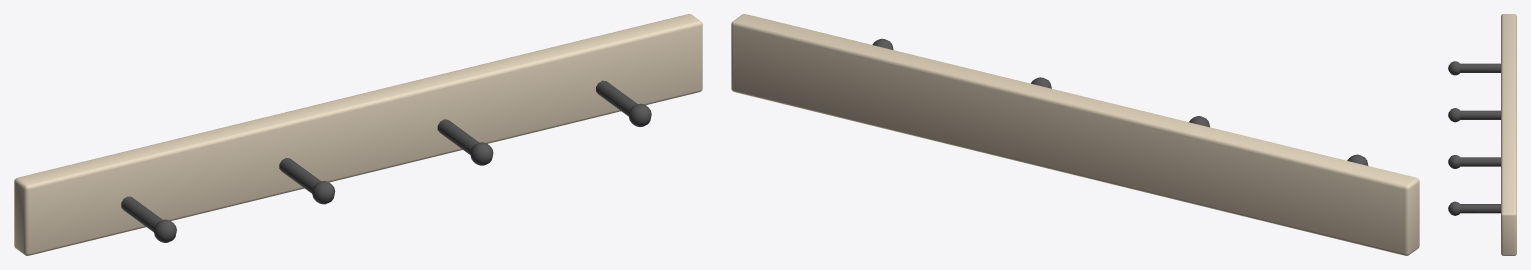
Rendered from mo_hook_rail.glb.
3 renders of one model, left to right at view 1: azimuth 30°, elevation 25°; view 2: azimuth 150°, elevation 25°; view 3: azimuth 270°, elevation 25°, orthographic. The views are drawn at different scales.
Visible parts, largest first — view 1: rail, peg, peg.002, peg.003, peg.001, tip.001, tip.002, tip, tip.003; view 2: rail; view 3: rail, peg, peg.001, peg.002, peg.003, tip, tip.001, tip.003, tip.002.
Boxes of the visible parts, left/top/right/bottom form: rail: left=14, top=14, right=702, bottom=255; peg: left=121, top=196, right=162, bottom=232; peg.002: left=437, top=119, right=479, bottom=154; peg.003: left=596, top=80, right=637, bottom=116; peg.001: left=279, top=158, right=320, bottom=193; tip.001: left=312, top=181, right=335, bottom=204; tip.002: left=470, top=142, right=493, bottom=165; tip: left=154, top=219, right=176, bottom=242; tip.003: left=629, top=103, right=651, bottom=126; rail: left=731, top=14, right=1419, bottom=255; rail: left=1501, top=14, right=1516, bottom=255; peg: left=1460, top=63, right=1500, bottom=72; peg.001: left=1460, top=110, right=1500, bottom=119; peg.002: left=1460, top=157, right=1500, bottom=166; peg.003: left=1460, top=204, right=1500, bottom=213; tip: left=1448, top=61, right=1460, bottom=75; tip.001: left=1448, top=108, right=1460, bottom=122; tip.003: left=1448, top=201, right=1460, bottom=215; tip.002: left=1448, top=155, right=1460, bottom=168.
Bounding box in the file's own units: 0.6 × 0.06 × 0.087.
